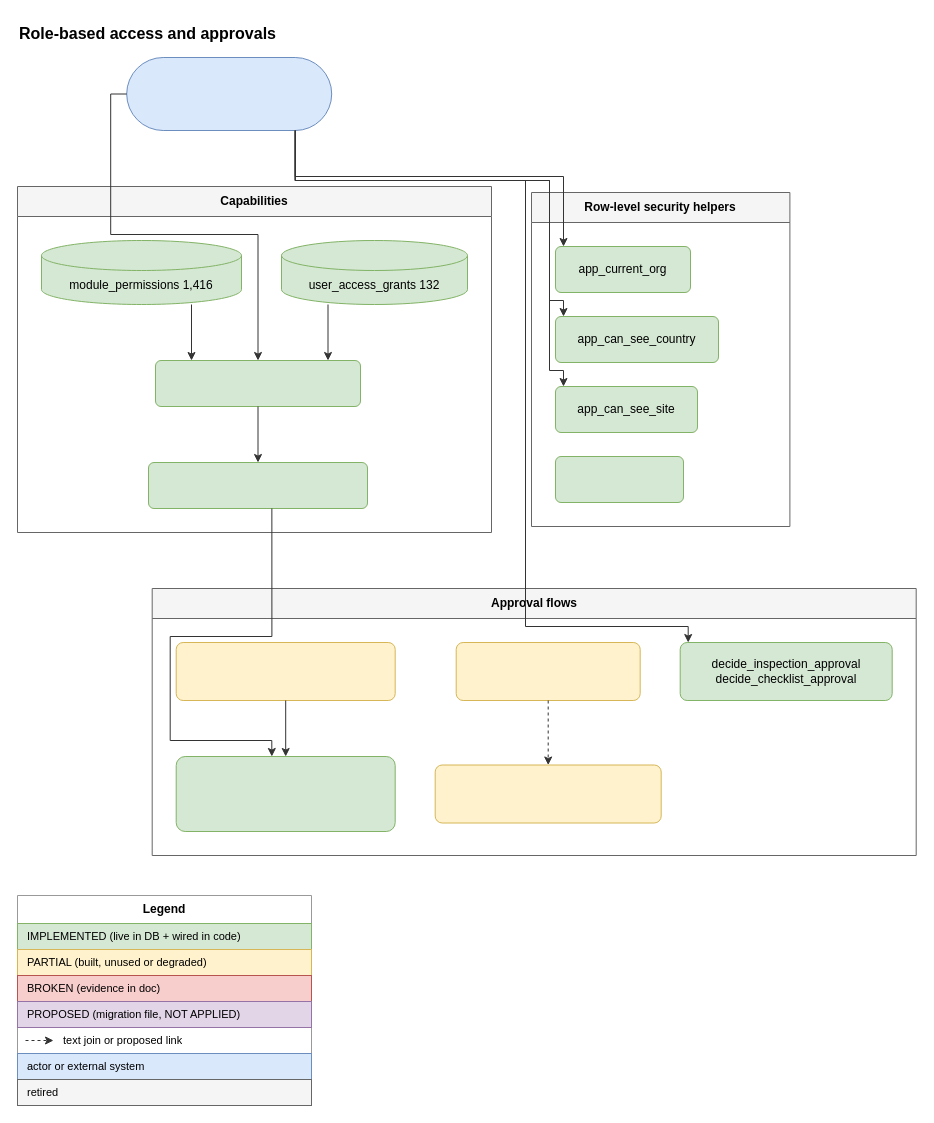
Image size: 934x1123. Some labels were removed from this diagram. Each missing label, with the centre of its shape:
app_user_can(module, cap): pixel 257 383
approval_execution_requests work + tyre execution guards: pixel 547 793
approval_matrix 0 rows resolve_approvers: pixel 547 671
inv_can(cap) = stock module: pixel 258 485
inventory_approval_limits 0 inv_approver_roles: pixel 285 671
inventory_approval_requests inv_request_approval / inv_approval_decide: pixel 285 794
is_super_admin: pixel 619 479
Signed-in user profiles.role, country, sites: pixel 229 93
